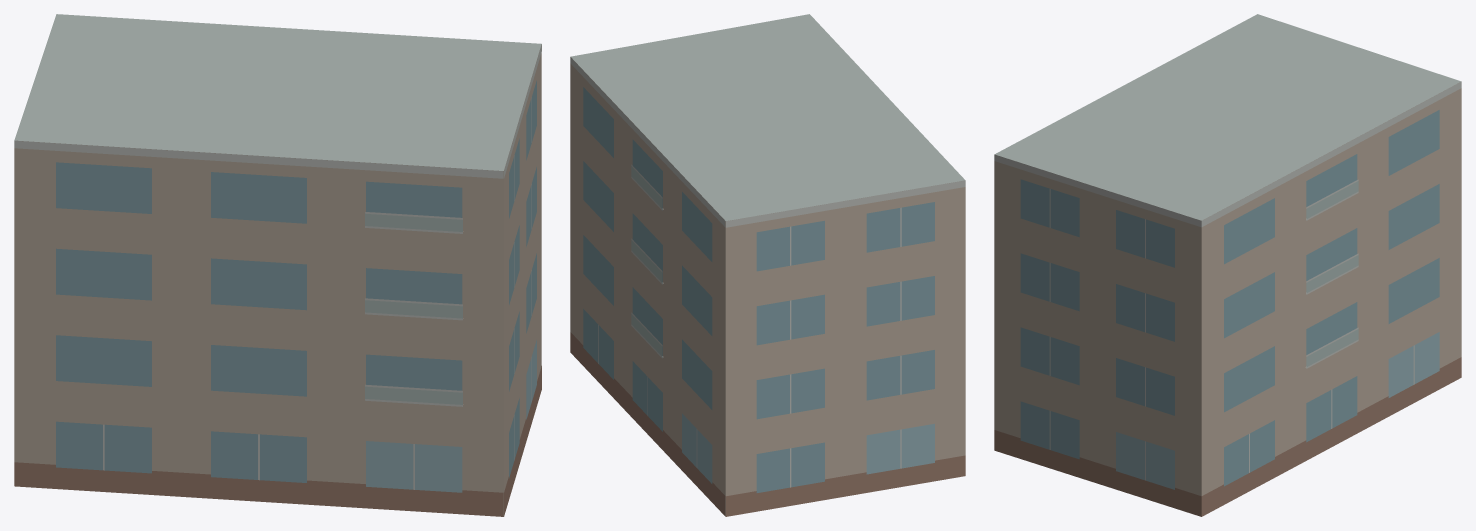
Rendered from survey-upis-32810743.glb.
3 views of the same model, side by side, from view 1: azimuth 30°, elevation 25°; view 2: azimuth 150°, elevation 25°; view 3: azimuth 270°, elevation 25° (orthographic). The views are drawn at different scales.
Visible parts, largest first — view 1: survey-upis-32810743.tmp; view 2: survey-upis-32810743.tmp; view 3: survey-upis-32810743.tmp.
Part boxes in pixels (x1,y1,x2,y2): survey-upis-32810743.tmp: [14, 14, 541, 516]; survey-upis-32810743.tmp: [570, 14, 965, 516]; survey-upis-32810743.tmp: [994, 14, 1461, 516].
Bounding box in the file's own units: 16.33 × 10.9 × 15.59.
